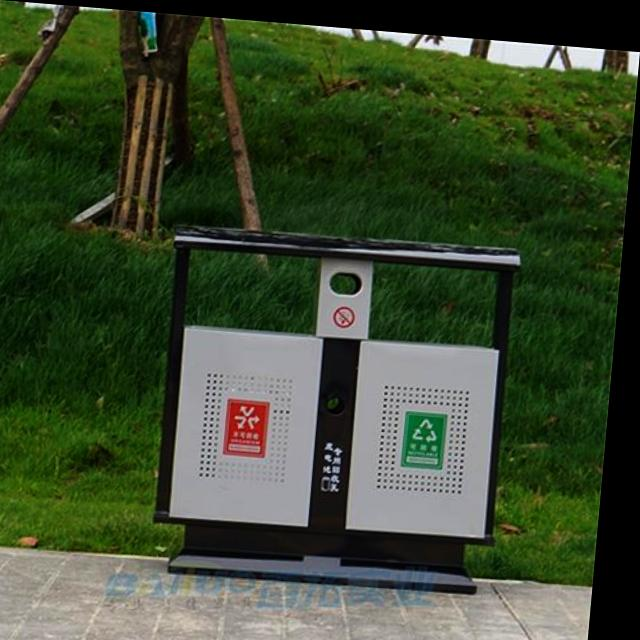garbage_bin: (153, 217, 525, 590)
